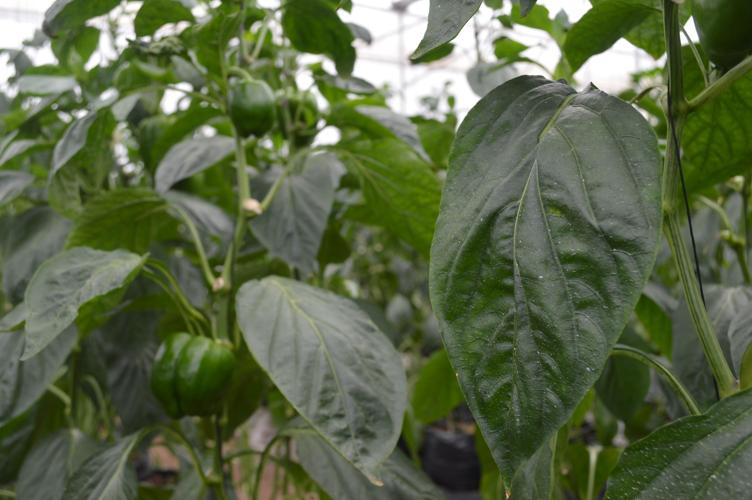BellPepper: (150, 317, 247, 418), (220, 72, 291, 144)
